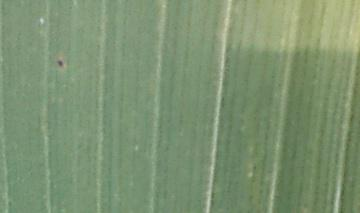tarspot: (55, 57, 65, 70), (246, 192, 254, 202), (250, 162, 258, 171)
